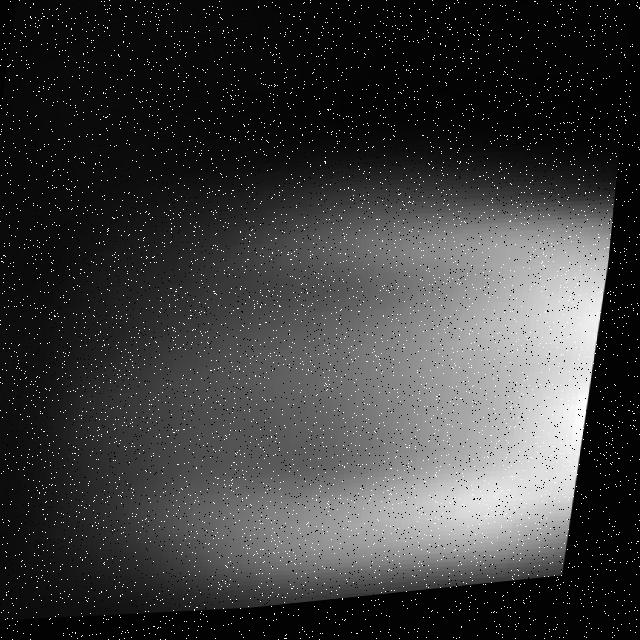person: (103, 119, 628, 627)
